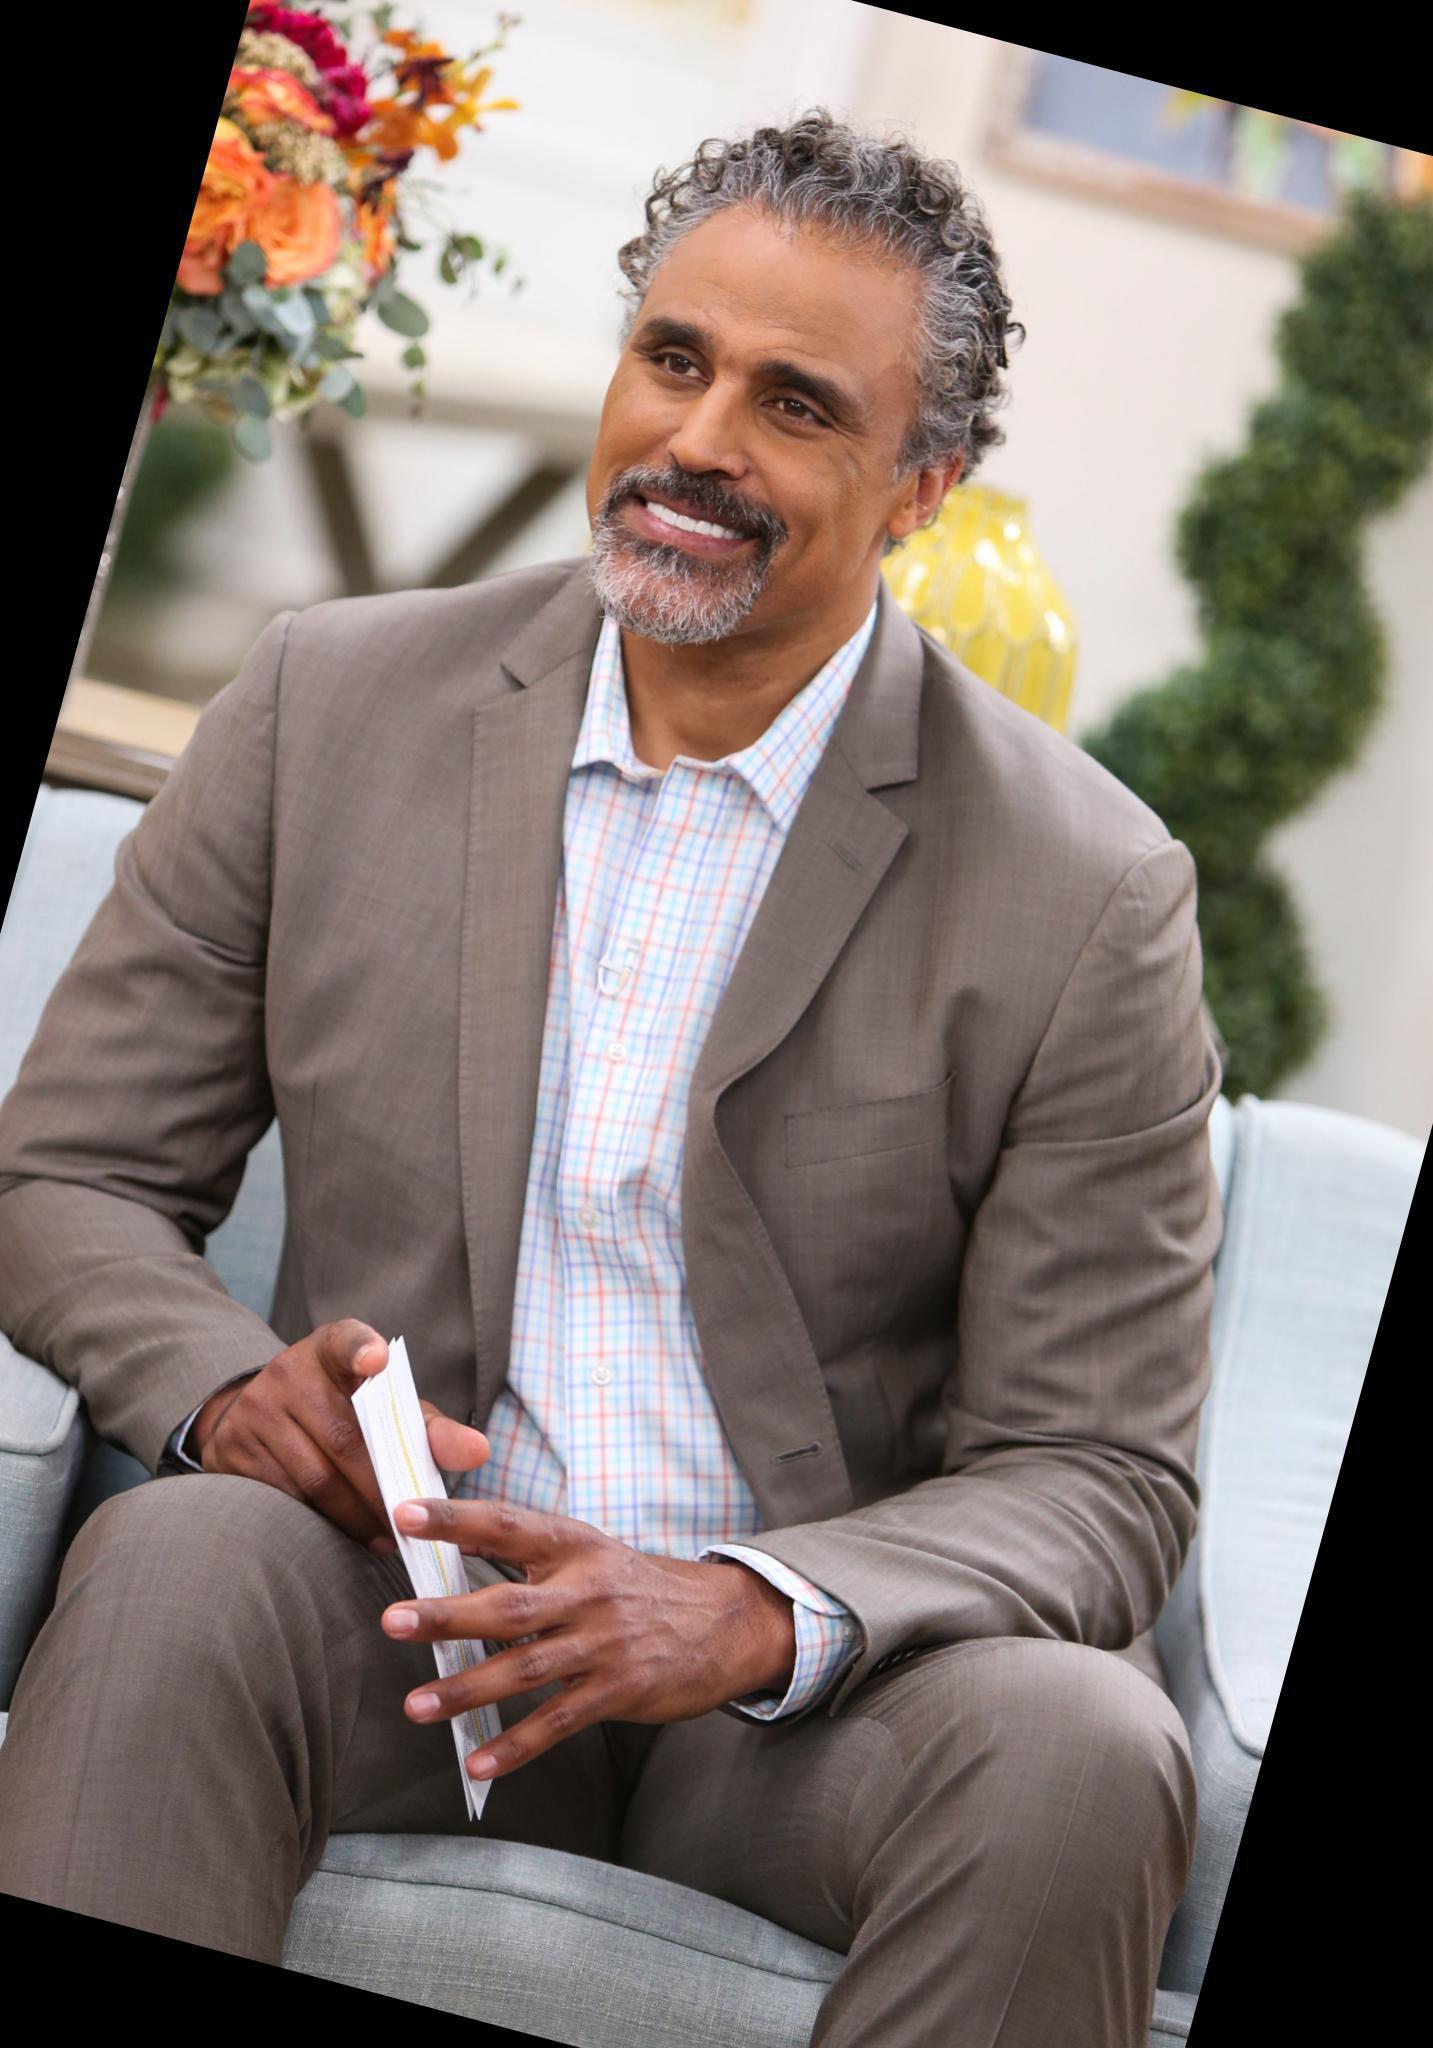Sober: (607, 241, 902, 616)
